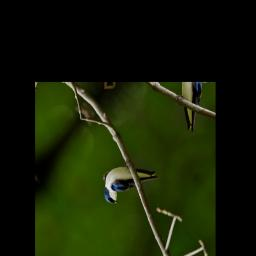Swallow: (94, 142, 160, 222)
